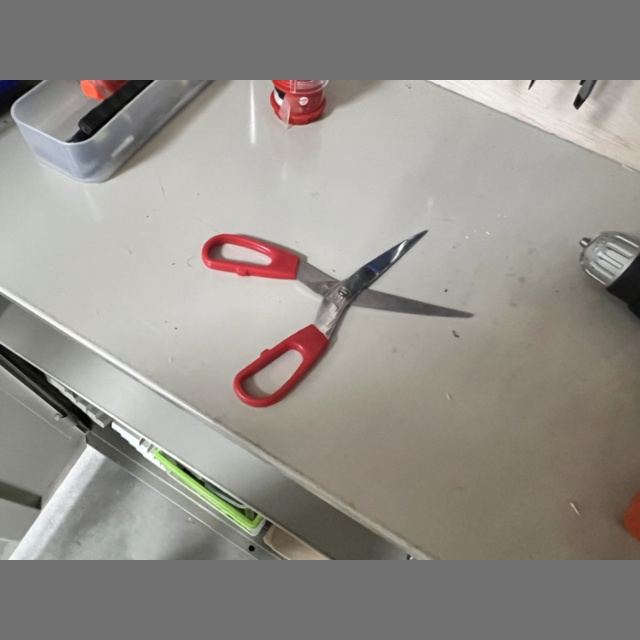drill: (579, 231, 640, 317)
scissor: (202, 231, 472, 407)
